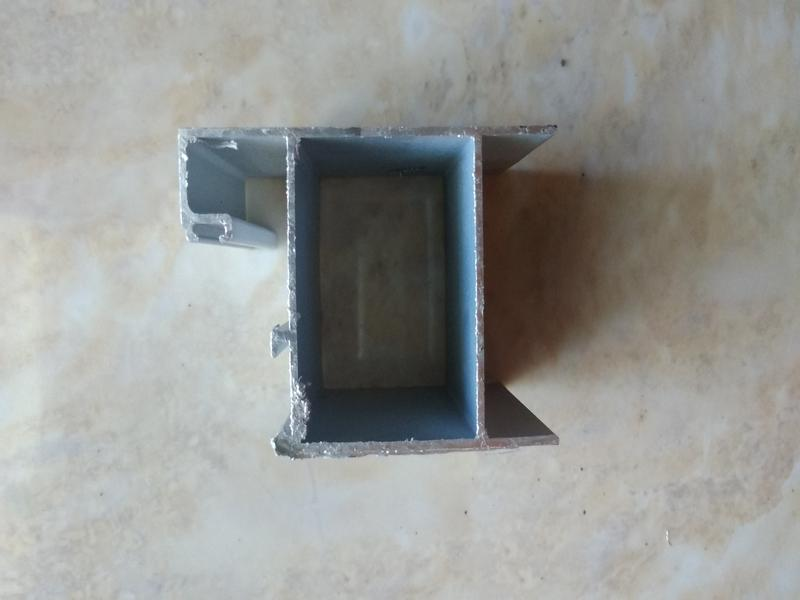Aluminium_2: (149, 93, 617, 480)
